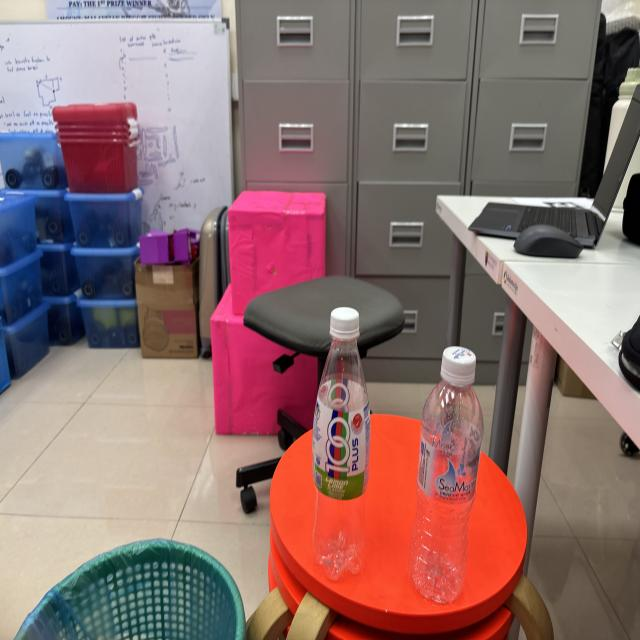plastic_bottle: (404, 334, 490, 614), (305, 295, 382, 578)
